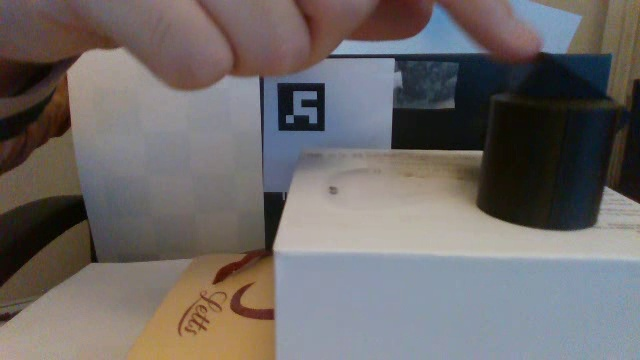cube: (512, 51, 635, 138)
cylindre: (473, 90, 621, 237)
